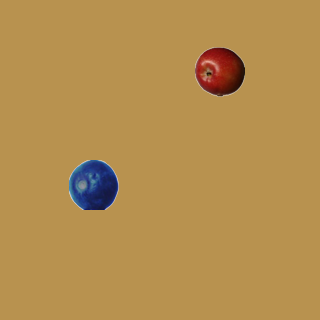Apple Braeburn: (194, 46, 244, 96)
Huckleberry: (68, 159, 118, 209)
